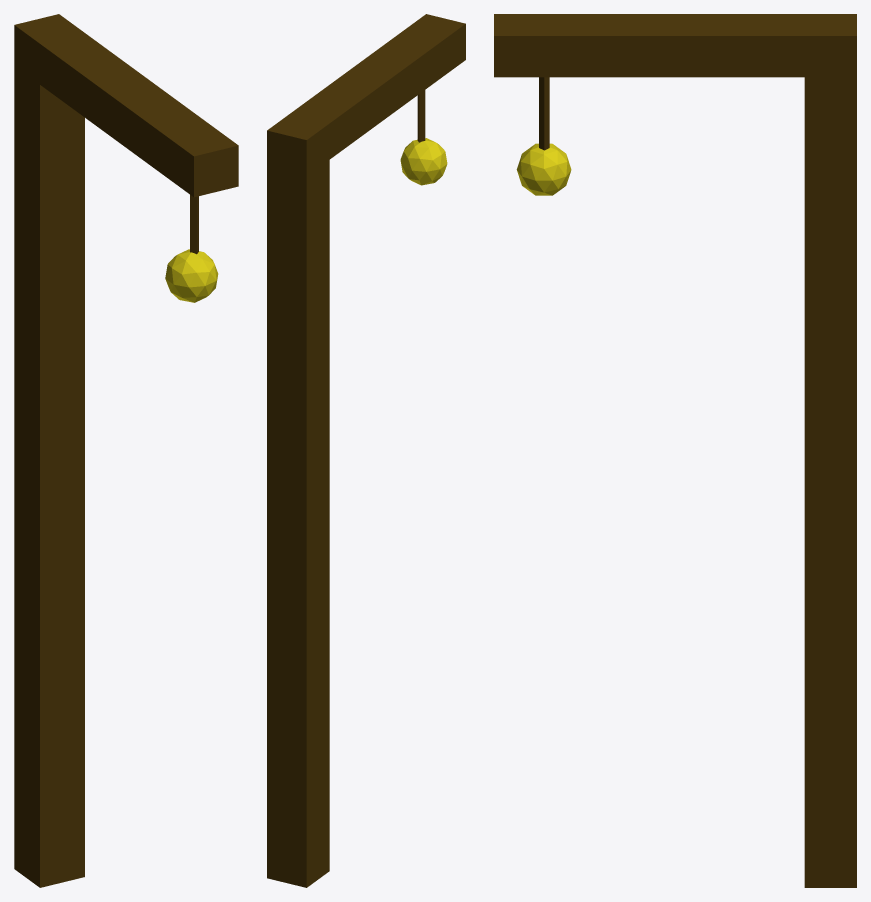
The model's file is oddlamp.fbx.
3 views of the same model, side by side, from view 1: azimuth 30°, elevation 25°; view 2: azimuth 150°, elevation 25°; view 3: azimuth 270°, elevation 25° (orthographic). The views are drawn at different scales.
Parts seen in each view (by area): view 1: Cube; view 2: Cube; view 3: Cube.
Boxes of the visible parts, <box> form: Cube: <box>14,14,238,887</box>; Cube: <box>267,14,465,887</box>; Cube: <box>494,14,856,887</box>.
Size of the model in its own units: 0.5015 by 9 by 3.47.
